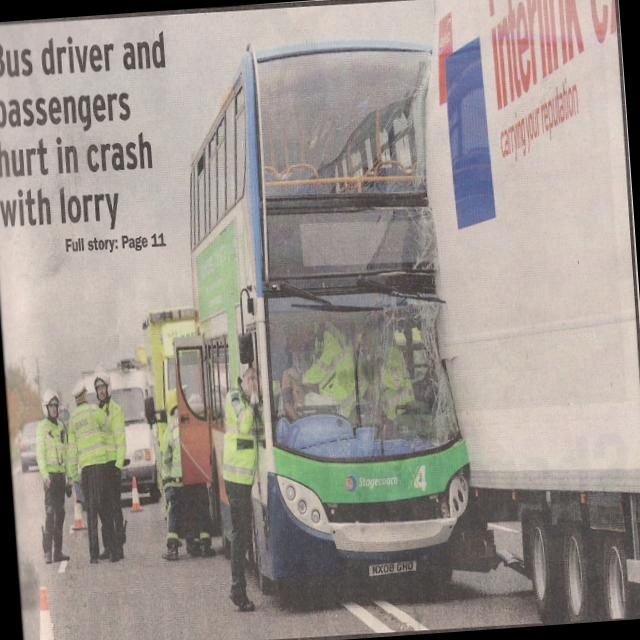bus: (172, 21, 508, 617), (409, 0, 640, 630), (140, 300, 212, 551)
